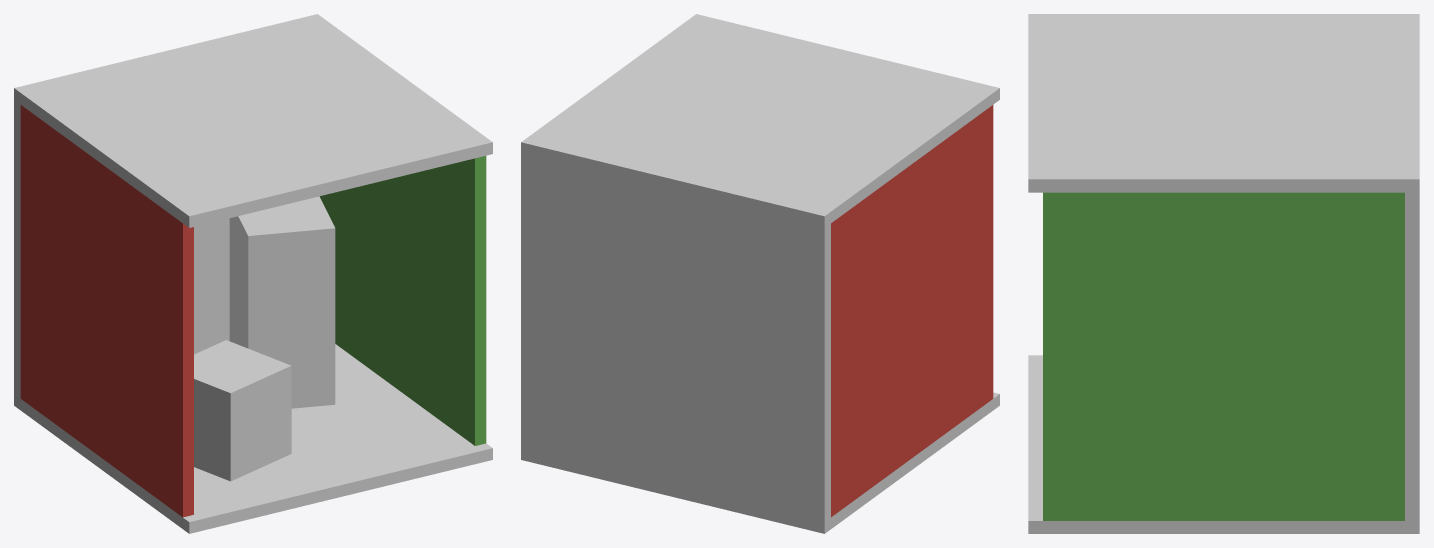
Rendered from CornellBox.gltf.
3 renders of one model, left to right at view 1: azimuth 30°, elevation 25°; view 2: azimuth 150°, elevation 25°; view 3: azimuth 270°, elevation 25°, orthographic. The views are drawn at different scales.
Parts seen in each view (by area): view 1: Ceiling, LeftRedWall, RightGreenWall, Floor, TallBlock, ShortBlock, BackWall; view 2: BackWall, Ceiling, LeftRedWall, Floor; view 3: RightGreenWall, Ceiling, Floor, BackWall.
Boxes of the visible parts, x1,y1,x2,y2 form: Ceiling: (14, 14, 492, 227); LeftRedWall: (20, 105, 193, 517); RightGreenWall: (319, 156, 486, 445); Floor: (14, 344, 492, 533); TallBlock: (229, 196, 335, 408); ShortBlock: (194, 340, 291, 481); BackWall: (14, 100, 229, 398); BackWall: (521, 154, 830, 521); Ceiling: (521, 14, 999, 227); LeftRedWall: (831, 105, 993, 517); Floor: (521, 392, 999, 533); RightGreenWall: (1043, 192, 1404, 520); Ceiling: (1028, 14, 1419, 192); Floor: (1028, 355, 1419, 533); BackWall: (1405, 192, 1419, 520).
Size of the model in its own units: 2.16 by 2.16 by 2.16.
